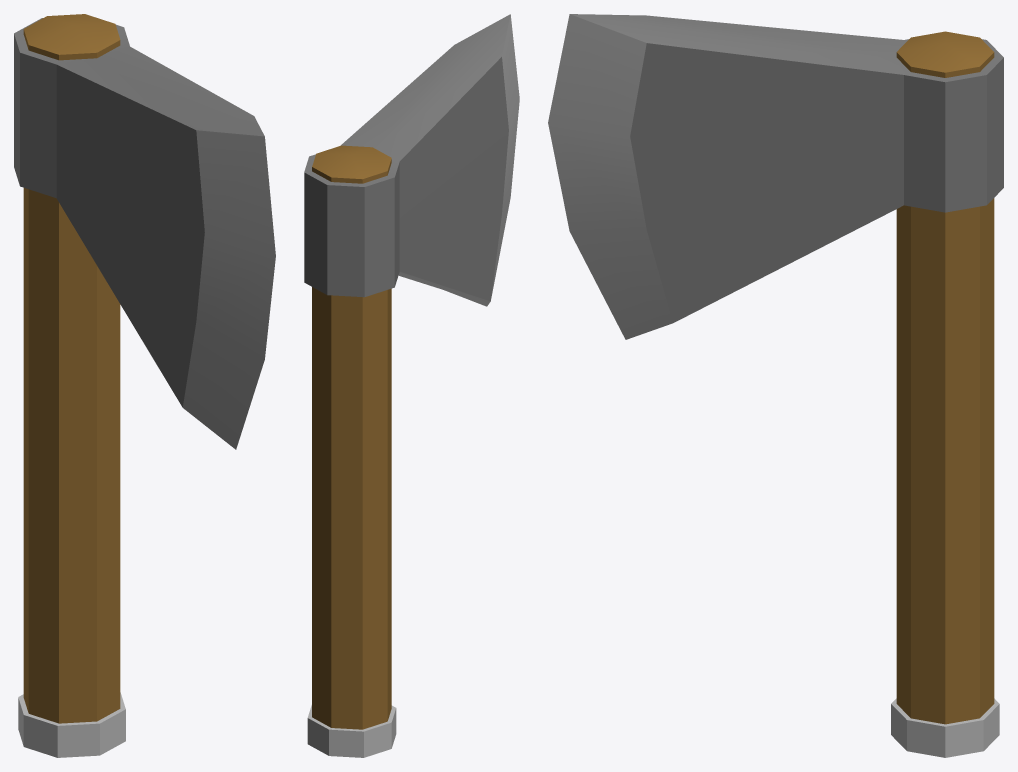
File: Axe2.fbx
3 views of the same model, side by side, from view 1: azimuth 30°, elevation 25°; view 2: azimuth 150°, elevation 25°; view 3: azimuth 270°, elevation 25° (orthographic). The views are drawn at different scales.
Visible parts, largest first — view 1: Cube.000; view 2: Cube.000; view 3: Cube.000.
Boxes of the visible parts, x1,y1,x2,y2 form: Cube.000: [14, 14, 275, 757]; Cube.000: [304, 14, 519, 757]; Cube.000: [548, 14, 1003, 757].
Size of the model in its own units: 240 by 1659 by 934.
